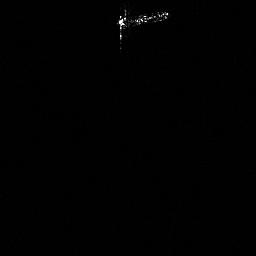ship: (118, 10, 169, 27)
